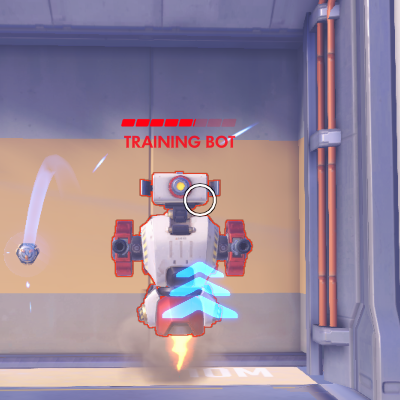hpbar: (120, 118, 236, 127)
